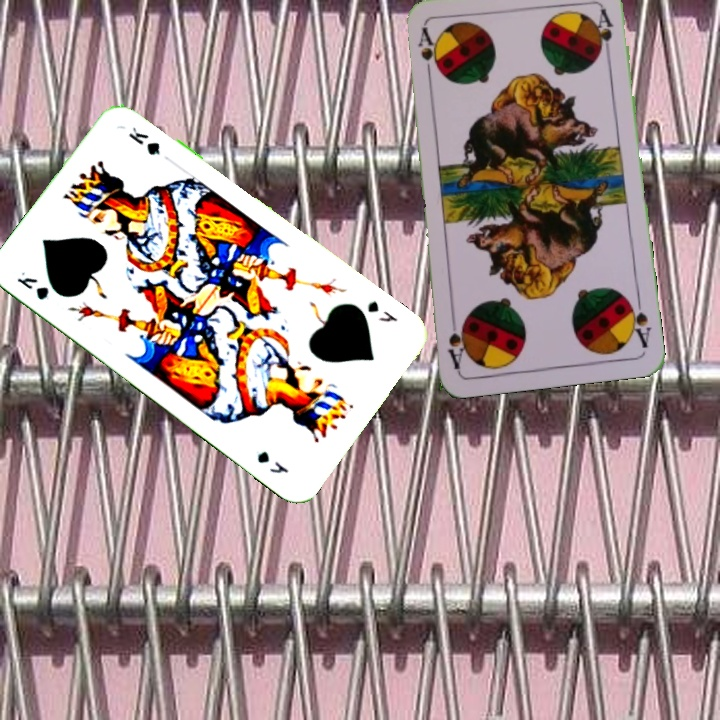GK: (12, 267, 52, 303), (363, 296, 401, 325)
SA: (623, 291, 654, 351), (414, 24, 435, 84)
